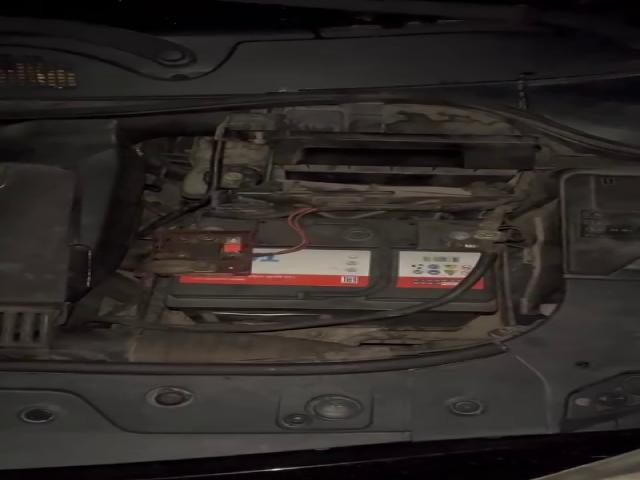accumulator: (139, 213, 504, 330)
fuse_box: (517, 169, 636, 281)
